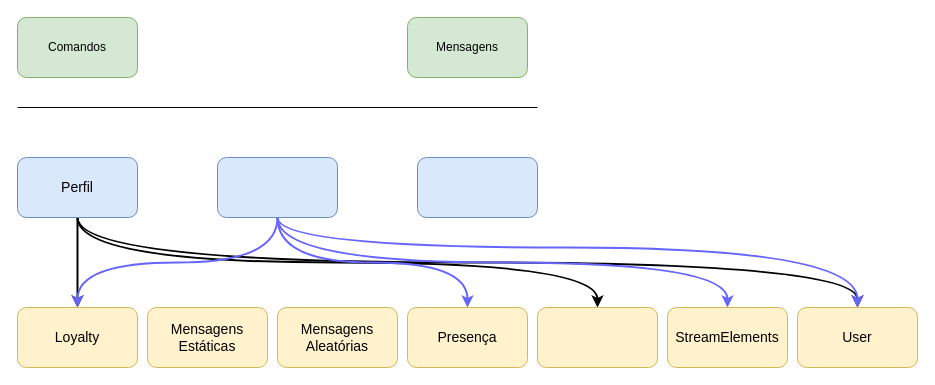
Image size: 935x385. Some labels were removed from this diagram. Here are the shapes that lost their labels. From the top down, the centre of each, then its label:
At (x=277, y=187): "Points".
At (x=597, y=337): "Retro".
